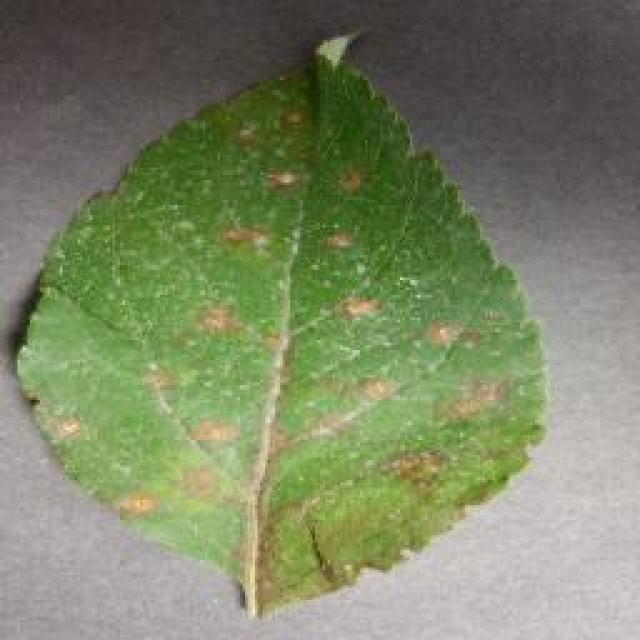apple scab disease: (12, 28, 550, 618)
